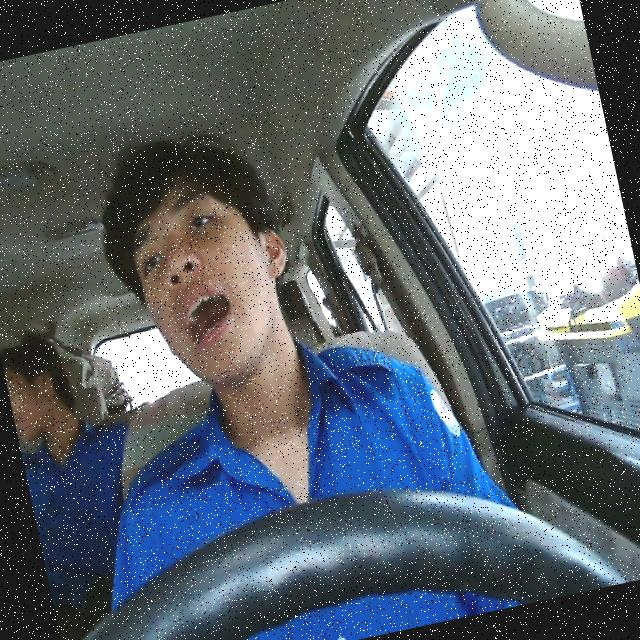yarning: (117, 165, 309, 398)
